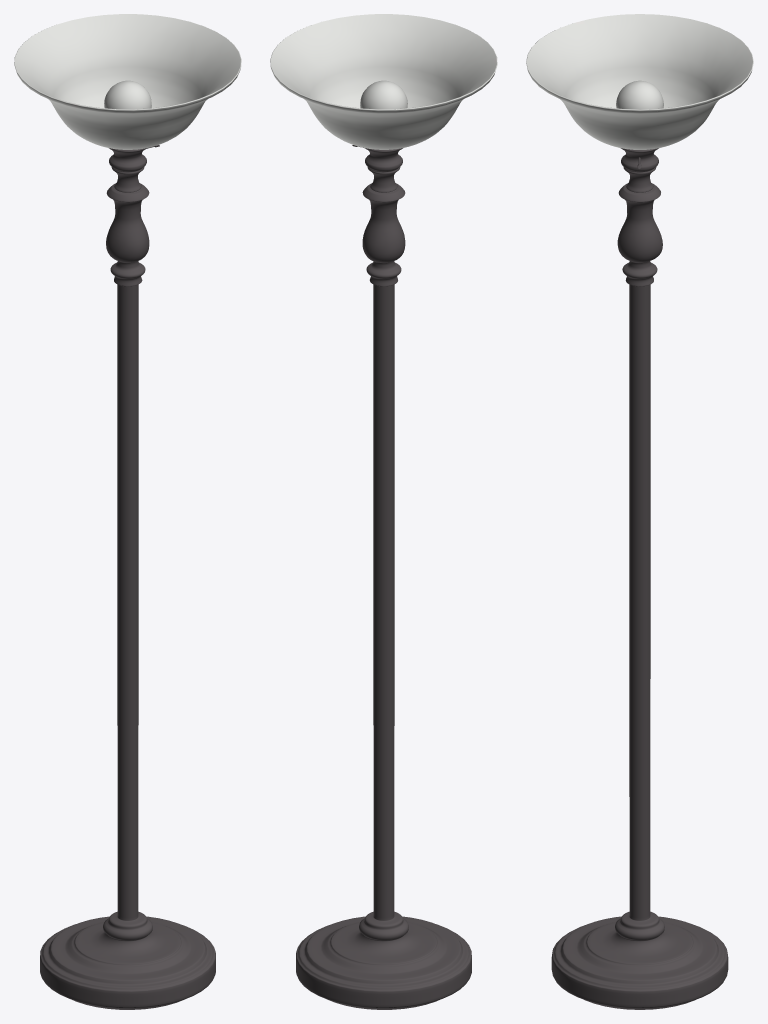
File: abo-B07DBCN3KB.glb
The picture shows the model from 3 angles, left to right: view 1: azimuth 30°, elevation 25°; view 2: azimuth 150°, elevation 25°; view 3: azimuth 270°, elevation 25°; orthographic projection.
Size of the model in its own units: 0.405 by 1.8 by 0.405.
Materials: 1 (1 with a texture image).
